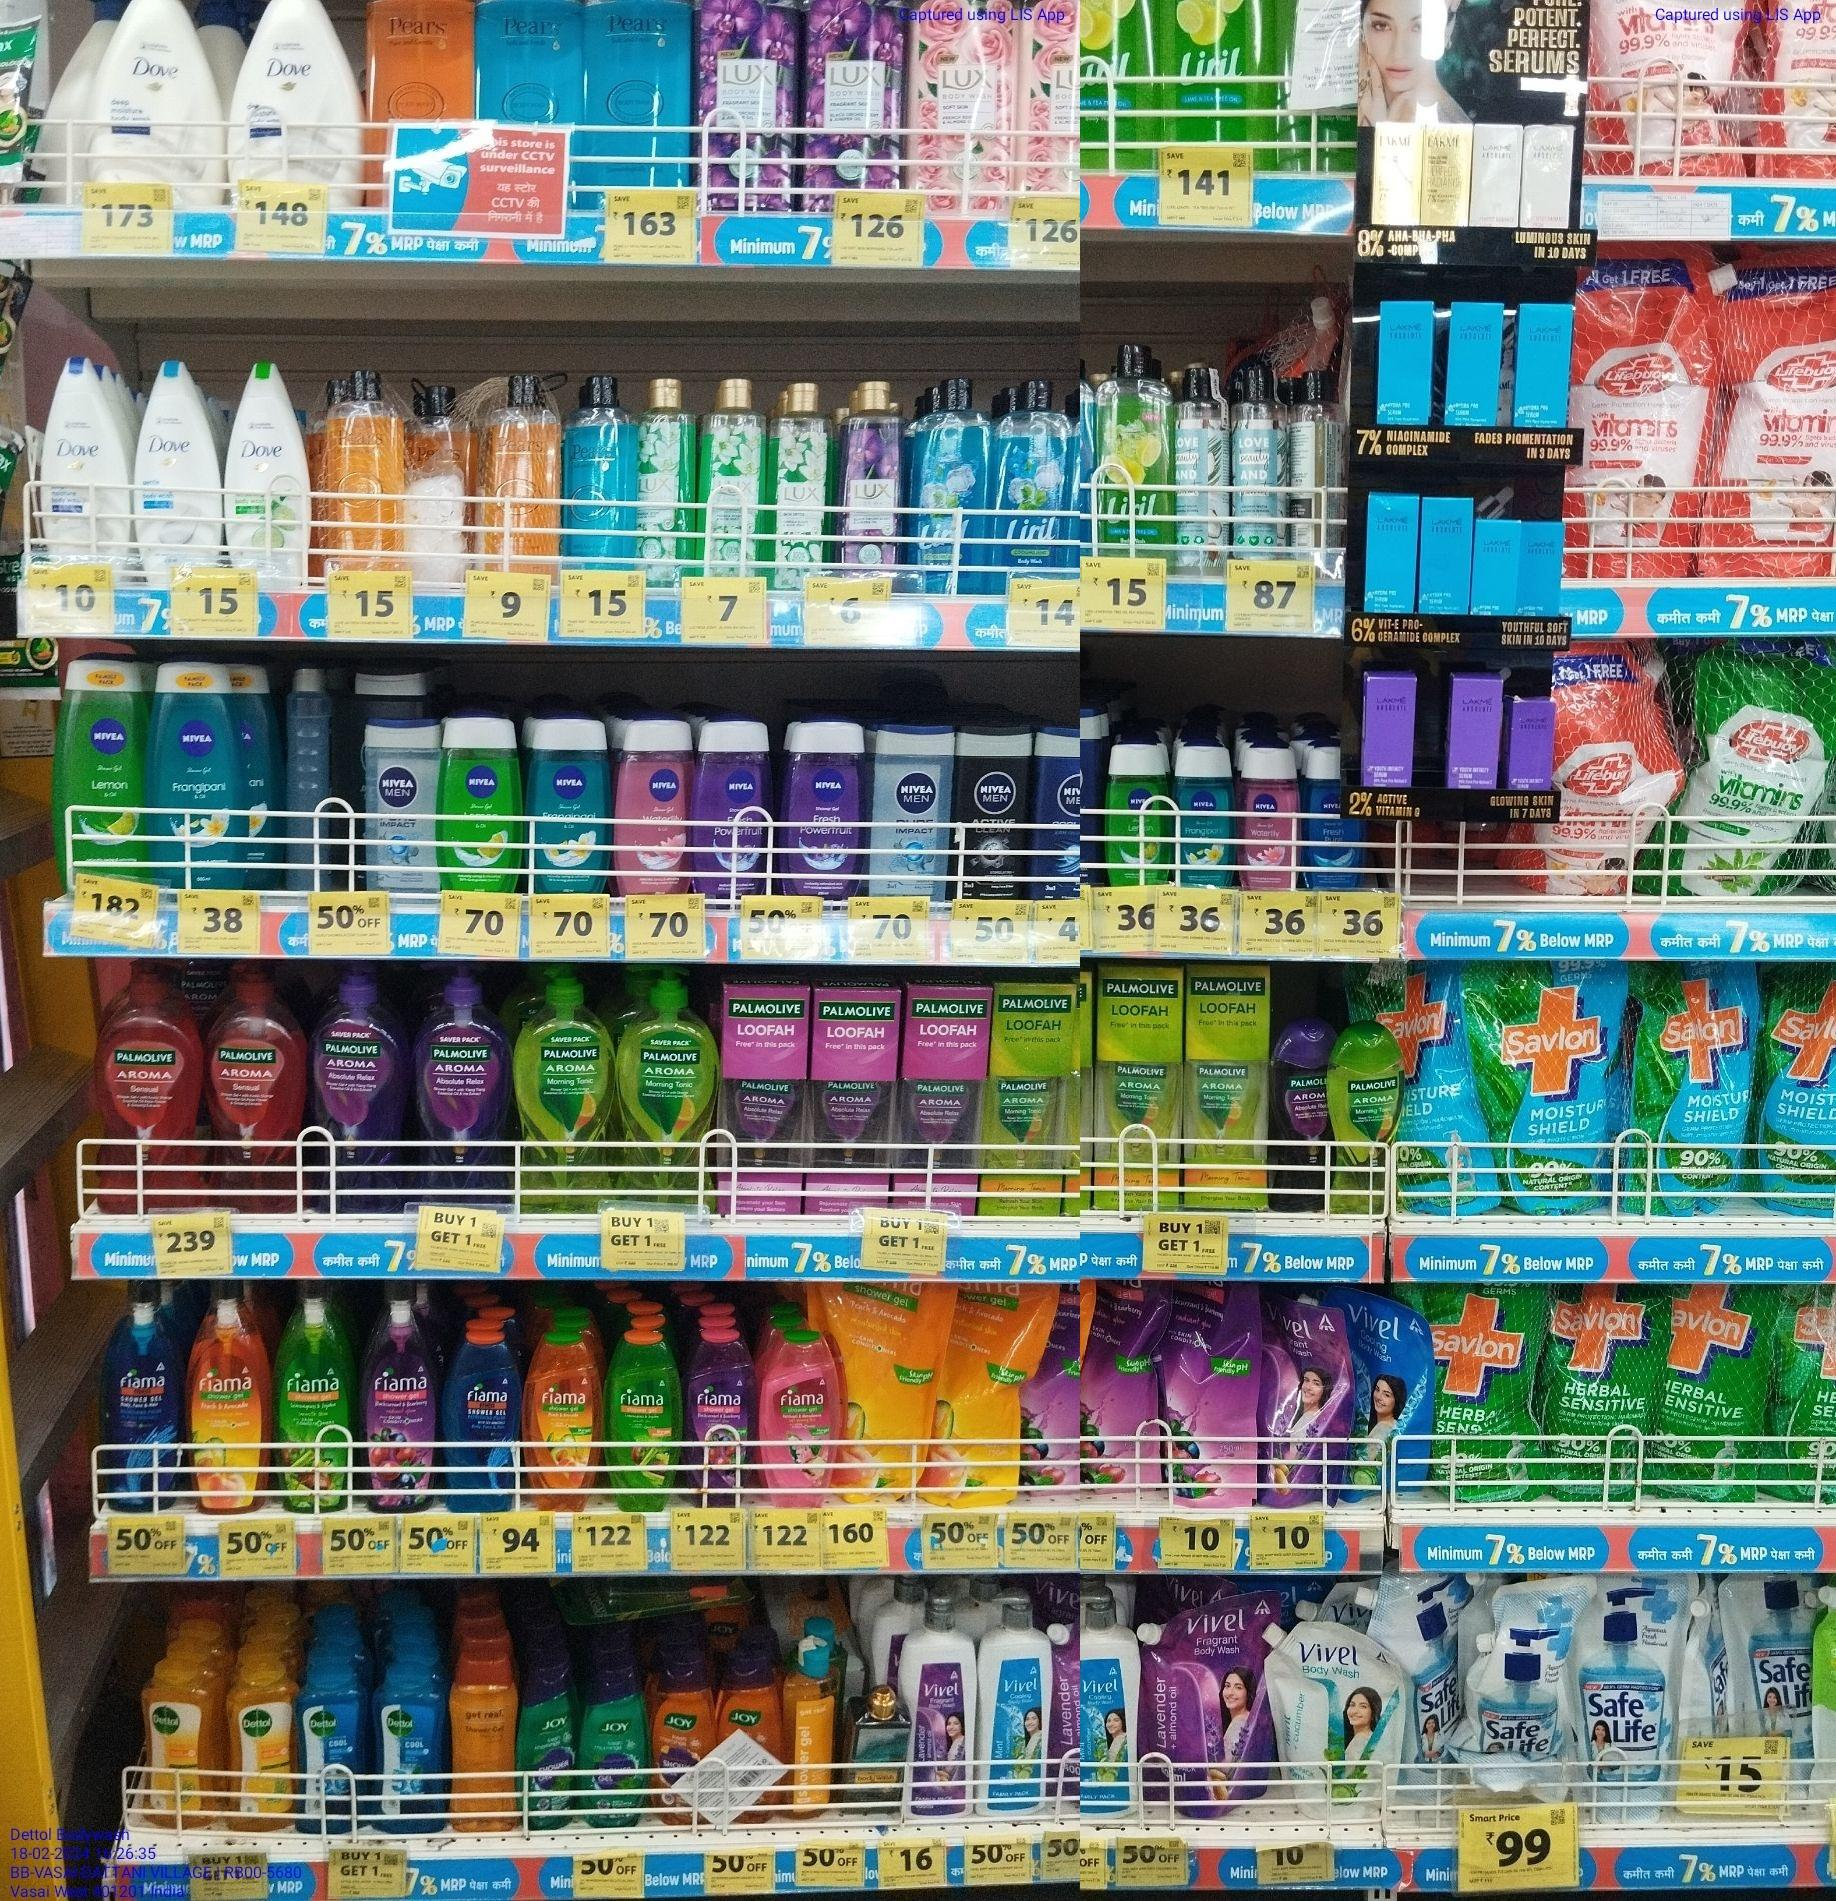Dettol_Bodywash_Cool: (299, 1653, 370, 1833), (375, 1660, 445, 1830)
Dettol_Bodywash_Refresh: (221, 1657, 295, 1838), (141, 1658, 217, 1831)
Dove_Deep_Moisture_Body_Wash_250ML: (39, 356, 131, 577)
Dove_Gentle_Exfoliating_Body_Wash_250ML: (134, 345, 229, 589)
Dove_Refreshing_Body_Wash_250ML: (232, 350, 312, 584)
Fiama_Shower_Gel_Lemongrass_and_Jojoba_250ML: (611, 1317, 677, 1514)
Fiama_Shower_Gel_Patchouli_and_Macadamia_250ML: (767, 1326, 842, 1509)
Fiama_Shower_Gel_Peach_and_Avocado_250ML: (526, 1331, 604, 1514)
Get_Real_Shower_Gel_Moisturising_Glycerin_300ML: (448, 1653, 519, 1833)
Joy_Shower_Gel_Mint_and_Eucalyptus_250ML: (580, 1655, 648, 1830), (521, 1657, 579, 1837)
Liril_Cooling_Mint_Body_Wash_250ML: (920, 377, 989, 587), (994, 385, 1066, 580)
Liril_Lime_and_Tea_Tree_Oil_Body_Wash_250ML: (1096, 341, 1174, 558)
Lux_Black_Orchid_Scent_and_Juniper_Oil_Body_Wash_245ML: (837, 380, 901, 577)
Lux_Body_Wash_Skin_Detox_Freesia_Scent_and_Alove_Vera_245ML: (697, 372, 760, 575), (770, 373, 828, 589), (635, 377, 694, 584)
Nivea_Shower_Gel_Frangipani_and_Oil_250ML: (148, 664, 251, 894), (533, 716, 609, 896), (1176, 745, 1234, 889)
Nivea_Shower_Gel_Fresh_Powerfruit_250ML: (694, 723, 770, 891), (789, 733, 852, 898)
Nivea_Shower_Gel_Lemon_and_Oil_250ML: (49, 650, 139, 881), (436, 720, 521, 891), (1108, 742, 1166, 886)
Nivea_Shower_Gel_Waterlily_and_Oil_250ML: (621, 730, 691, 894), (1244, 745, 1300, 889)
Palmolive_Aroma_Morning_Tonic_Shower_Gel_250ML: (1335, 1023, 1400, 1217)
Palmolive_Aroma_Relax_250ML: (1266, 1027, 1327, 1212)
Pears_Pure_Glycerin_and_Mint_Extracts_Body_Wash_250ML: (563, 372, 633, 565)
